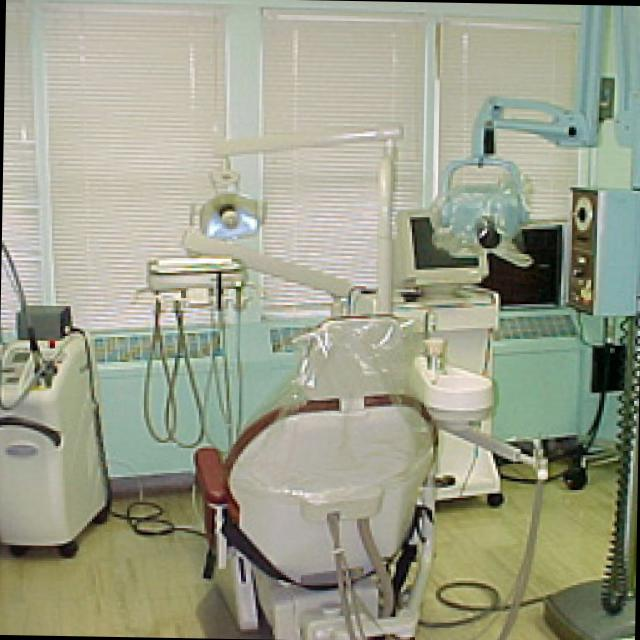2001: (50, 3, 228, 333), (265, 7, 430, 309), (443, 15, 580, 295)
articulated lamp toy: (204, 116, 406, 311)
dentist chair: (195, 310, 452, 637)
floor -X: (0, 440, 638, 640)
set of instruments toys: (452, 5, 640, 640), (1, 300, 115, 552)
wahsbasin: (409, 309, 505, 503)
wall clock: (2, 0, 640, 489)
